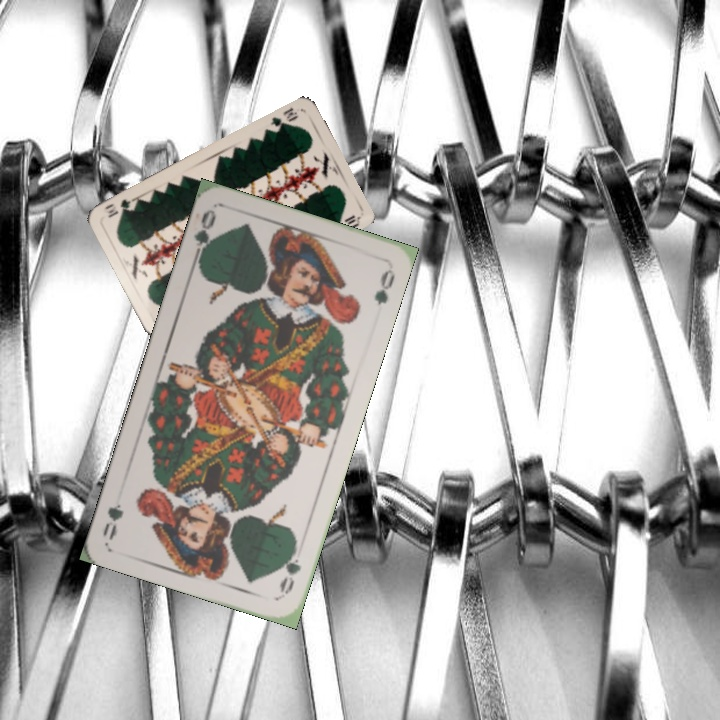G10: (266, 103, 302, 132)
GO: (188, 206, 219, 266), (275, 539, 304, 598)
